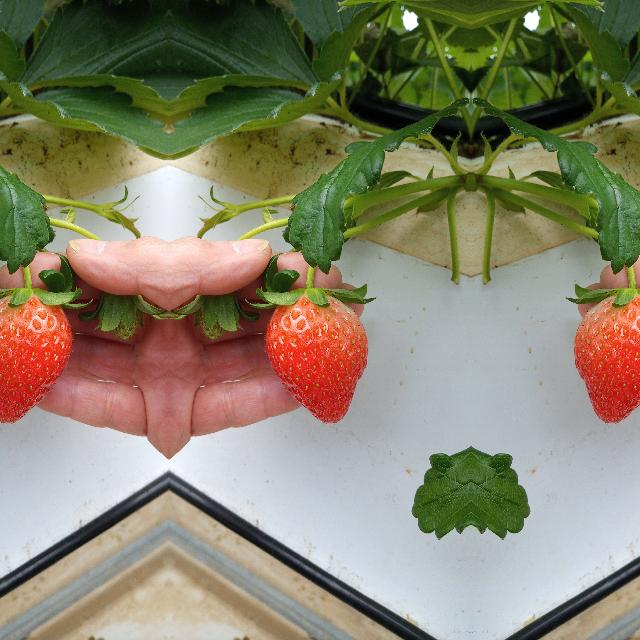Health_100: (264, 292, 368, 424), (0, 291, 72, 424), (573, 291, 640, 424)
